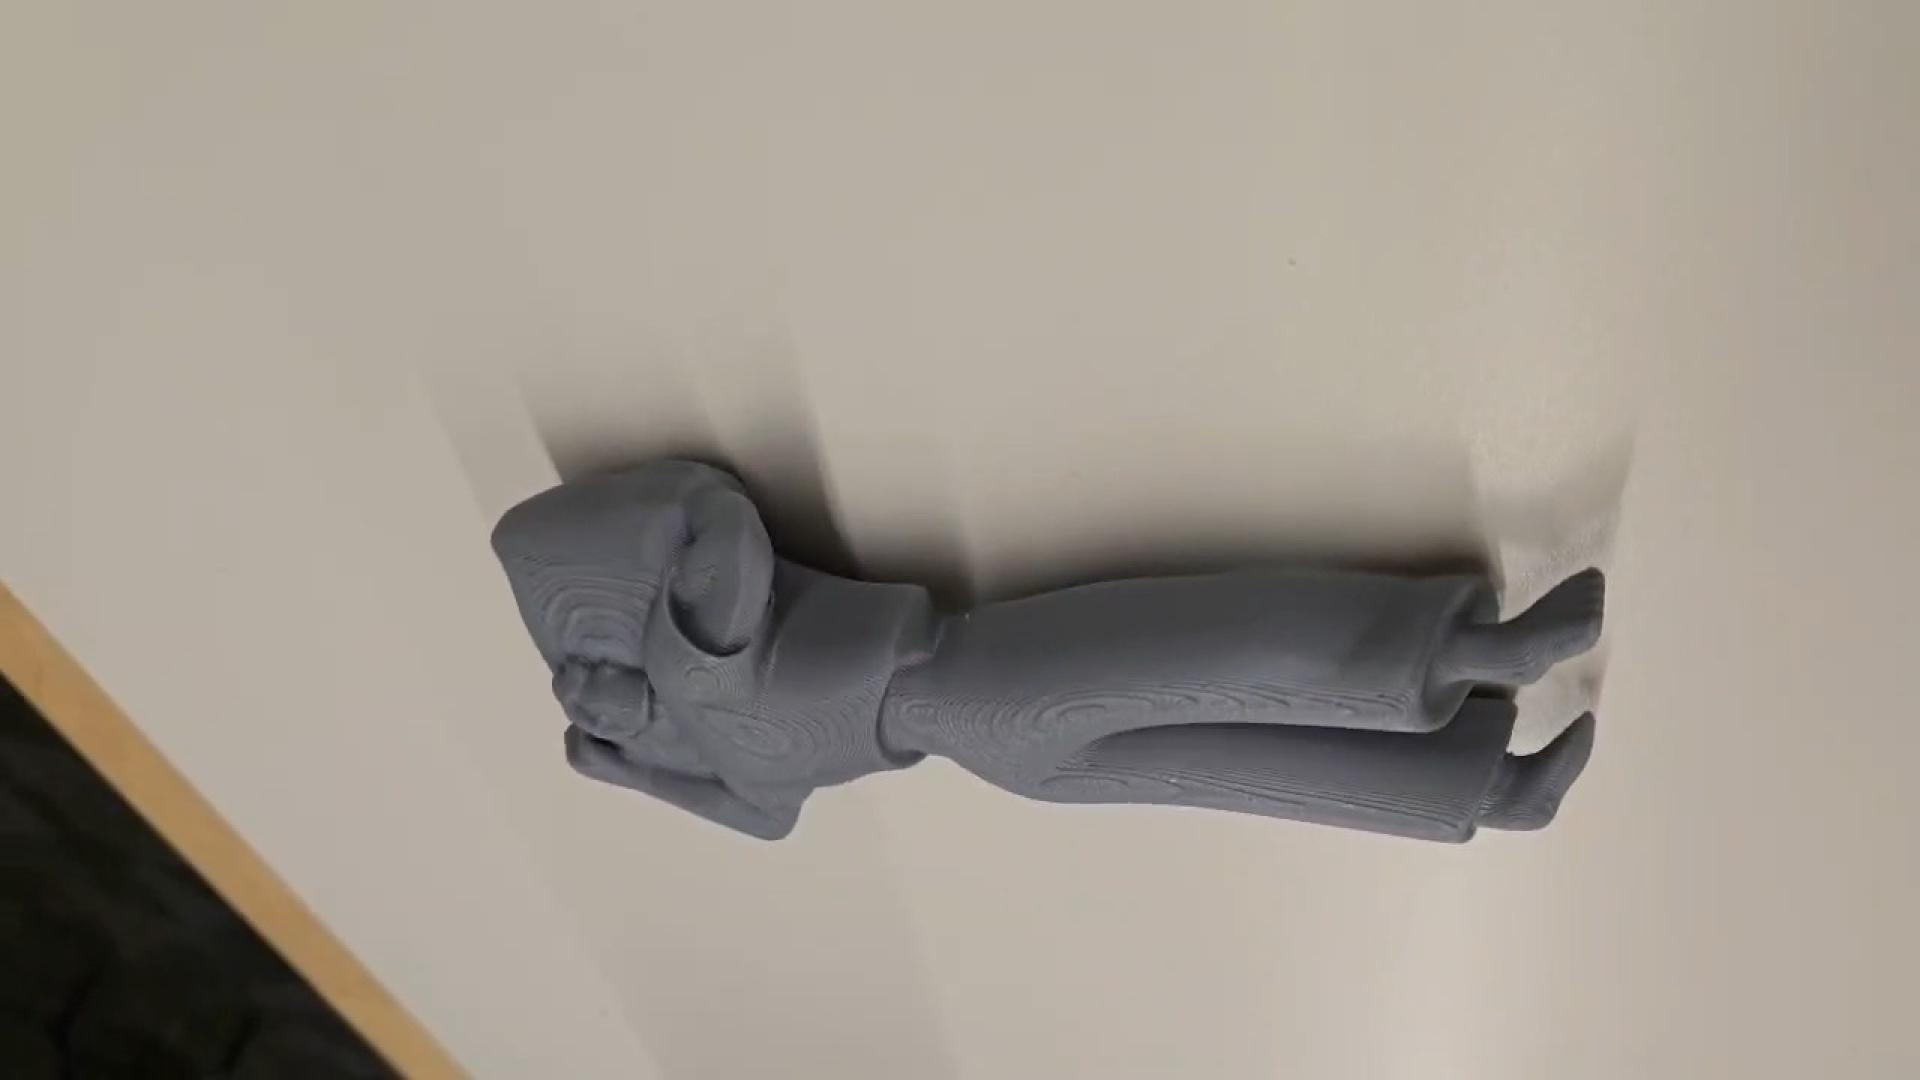Bad-style: (488, 451, 1611, 851)
